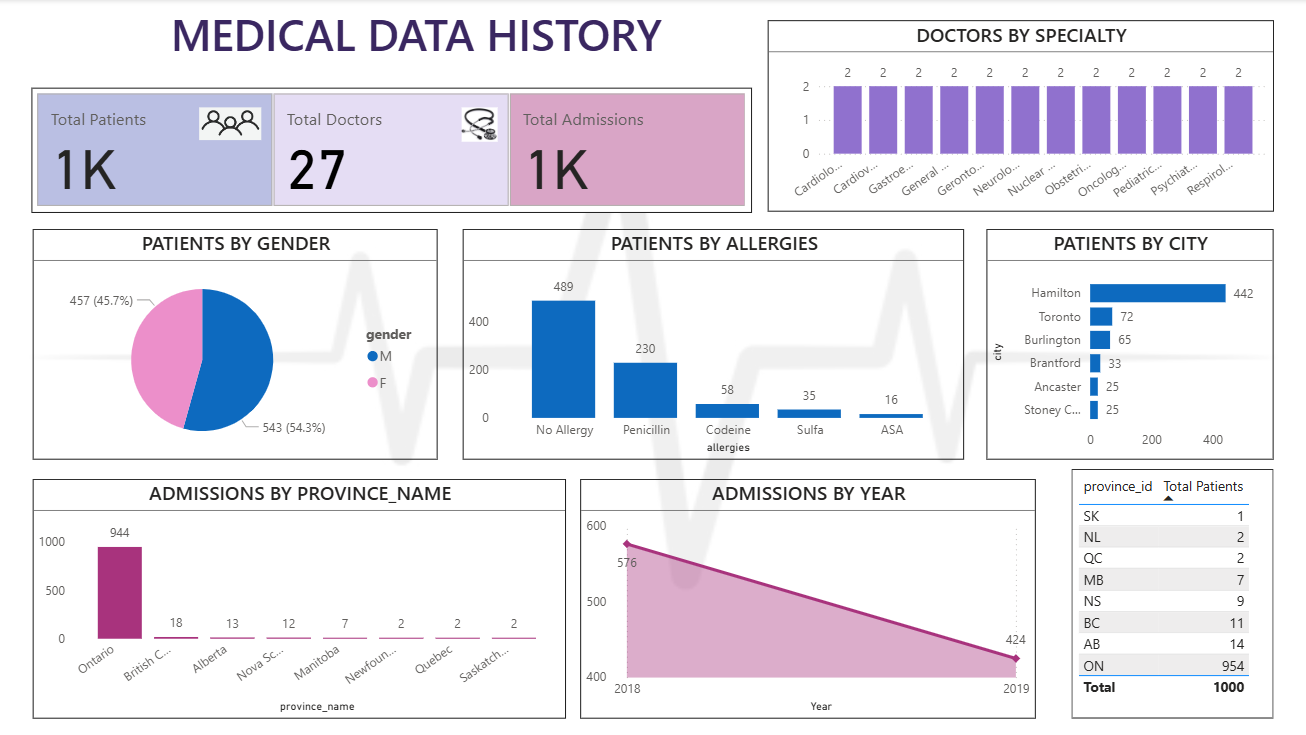

The page's visual inventory and layout, read from the dashboard file:
{"tool":"powerbi","page":{"name":"Page 1","canvas":[1280,720],"ordinal":0},"visuals":[{"type":"cardVisual","fields":{"Data":["Table.Total Patients","Table.Total Doctors","Table.Total Admissions"]},"box":[31.7,86.5,705,122.6],"z":0},{"type":"pieChart","title":"PATIENTS BY GENDER","fields":{"Category":["patients.gender"],"Y":["Table.Total Patients"]},"box":[32.4,225.6,396.2,225.6],"z":1000},{"type":"columnChart","title":"DOCTORS BY SPECIALTY","fields":{"Y":["Table.Total Doctors"],"Category":["doctors.specialty"]},"box":[751.5,21.2,494.9,187.5],"z":2000},{"type":"tableEx","fields":{"Values":["patients.province_id","Table.Total Patients"]},"box":[1049,459.7,197.4,243.9],"z":3000},{"type":"barChart","title":"PATIENTS BY CITY","fields":{"Category":["patients.city"],"Y":["Table.Total Patients"]},"box":[965.9,225.6,280.6,225.6],"z":4000},{"type":"columnChart","title":"PATIENTS BY ALLERGIES","fields":{"Category":["patients.allergies"],"Y":["Table.Total Patients"]},"box":[454,225.6,490.7,225.6],"z":5000},{"type":"areaChart","title":"ADMISSIONS BY YEAR","fields":{"Category":["admissions.admission_date.Variation.Date Hierarchy.Year"],"Y":["Table.Total Admissions"]},"box":[568.2,469.5,445.6,234.1],"z":6000},{"type":"clusteredColumnChart","title":"ADMISSIONS BY PROVINCE_NAME","fields":{"Category":["province.province_name"],"Y":["Table.Total Admissions"]},"box":[32.4,469.5,521.7,234.1],"z":7000},{"type":"textbox","box":[156.8,0,503.1,76],"z":8000}]}

Visuals, with their boxes in screenshot pixels (x1, y1, x2, y2), scaled from the page's 1280x720 canvas onto the 1306x735 screenshot:
cardVisual - Table.Total Patients x Table.Total Doctors: region(32, 88, 752, 213)
"PATIENTS BY GENDER" pieChart: region(33, 230, 437, 461)
"DOCTORS BY SPECIALTY" columnChart: region(767, 22, 1272, 213)
tableEx - patients.province_id x Table.Total Patients: region(1070, 469, 1272, 718)
"PATIENTS BY CITY" barChart: region(986, 230, 1272, 461)
"PATIENTS BY ALLERGIES" columnChart: region(463, 230, 964, 461)
"ADMISSIONS BY YEAR" areaChart: region(580, 479, 1034, 718)
"ADMISSIONS BY PROVINCE_NAME" clusteredColumnChart: region(33, 479, 565, 718)
textbox: region(160, 0, 673, 78)
